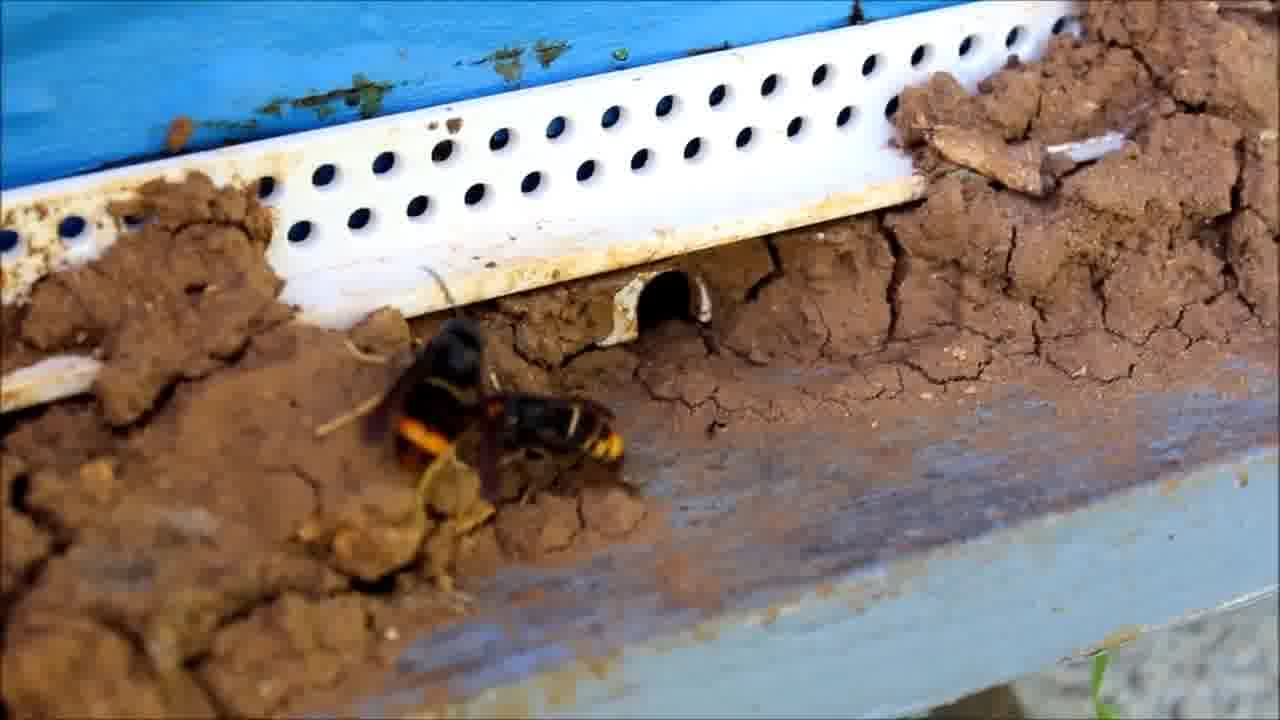hornet: (373, 310, 499, 493), (473, 384, 650, 485)
